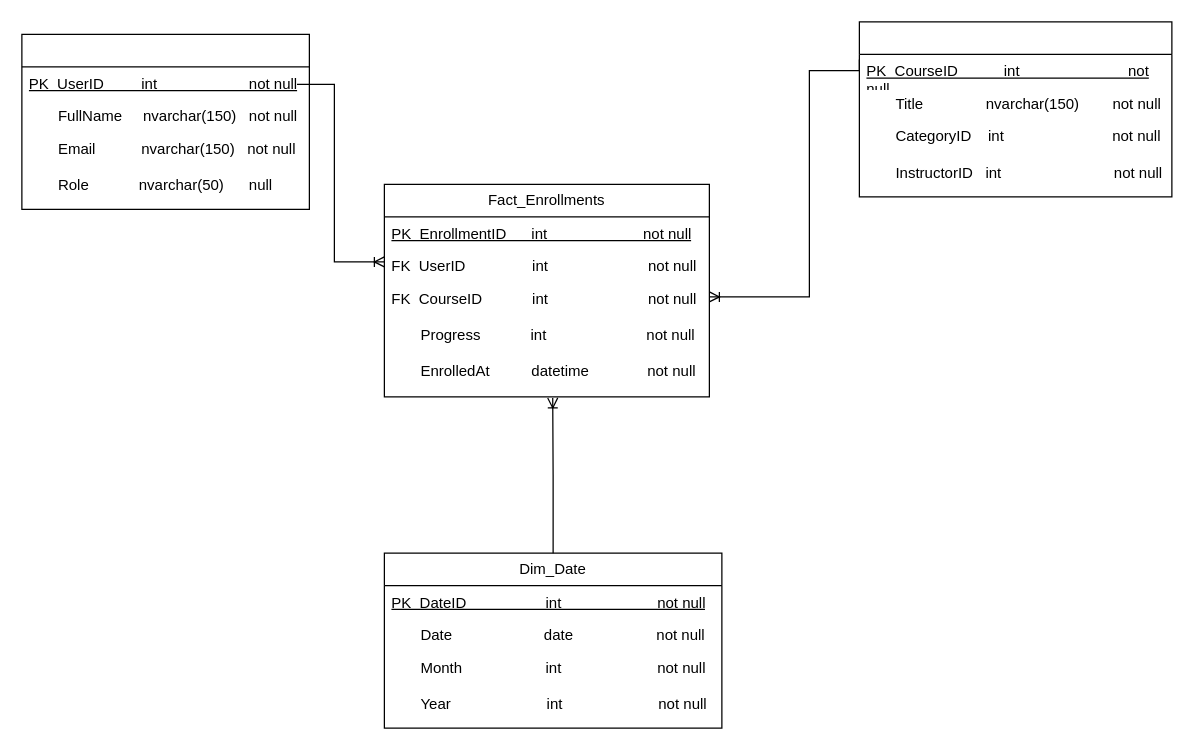
Image size: 1194x754. Some labels were removed from this diagram. Here are the shapes that lost their labels. From the top down, the box of each, then its label:
(21, 33, 309, 209): Dim_User
(858, 21, 1172, 197): Dim_Course
